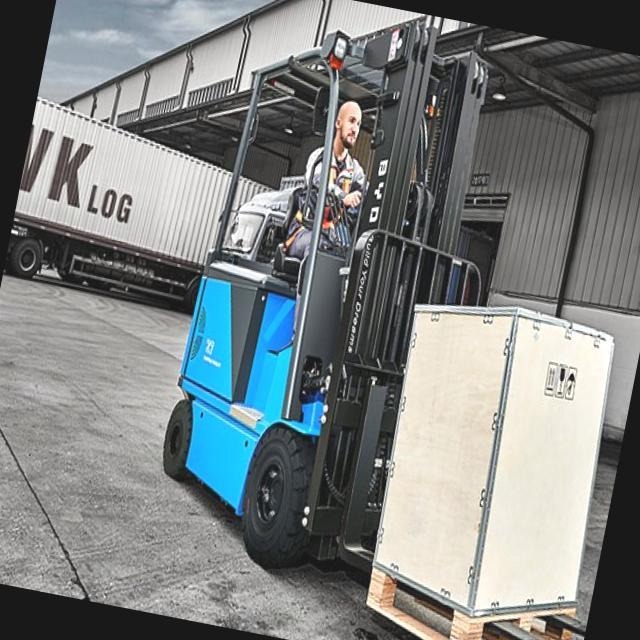driver: (282, 90, 379, 267)
forklift: (126, 0, 543, 634)
